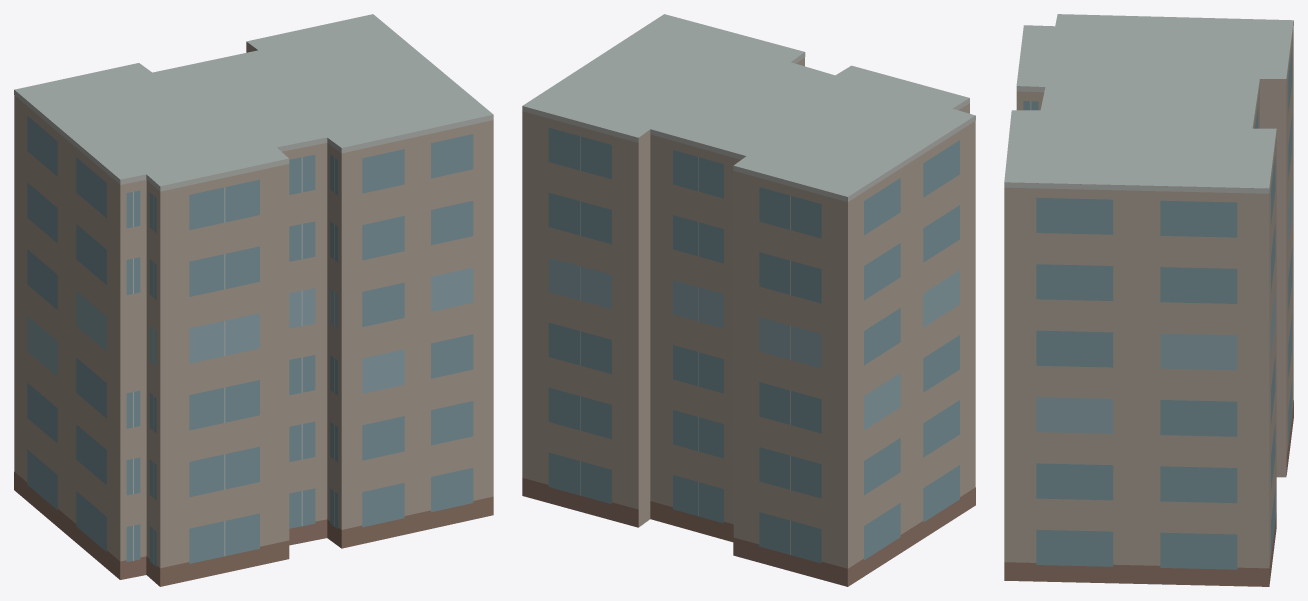
Rendered from survey-upis-32551802.glb.
3 renders of one model, left to right at view 1: azimuth 30°, elevation 25°; view 2: azimuth 150°, elevation 25°; view 3: azimuth 270°, elevation 25°, orthographic. The views are drawn at different scales.
Visible parts, largest first — view 1: survey-upis-32551802.tmp; view 2: survey-upis-32551802.tmp; view 3: survey-upis-32551802.tmp.
Part boxes in pixels (x1,y1,x2,y2): survey-upis-32551802.tmp: (14, 14, 493, 586); survey-upis-32551802.tmp: (522, 14, 975, 586); survey-upis-32551802.tmp: (1004, 14, 1293, 586).
Bounding box in the file's own units: 17.2 × 18.3 × 12.06.
